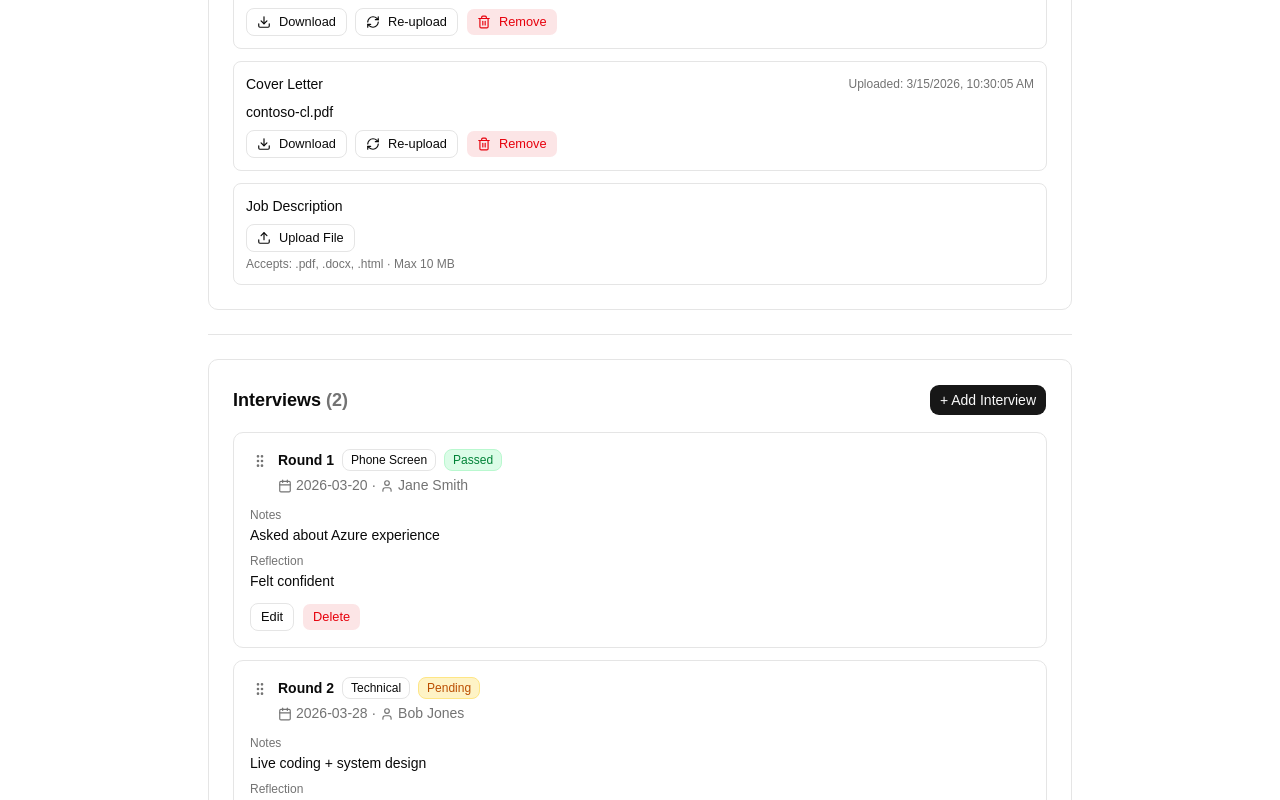
Scenario: ApplicationDetailPage › opens interview modal when clicking Add Interview
(page scrolled)
Click the button "+ Add Interview" at (988, 400), box [929, 384, 1047, 416]
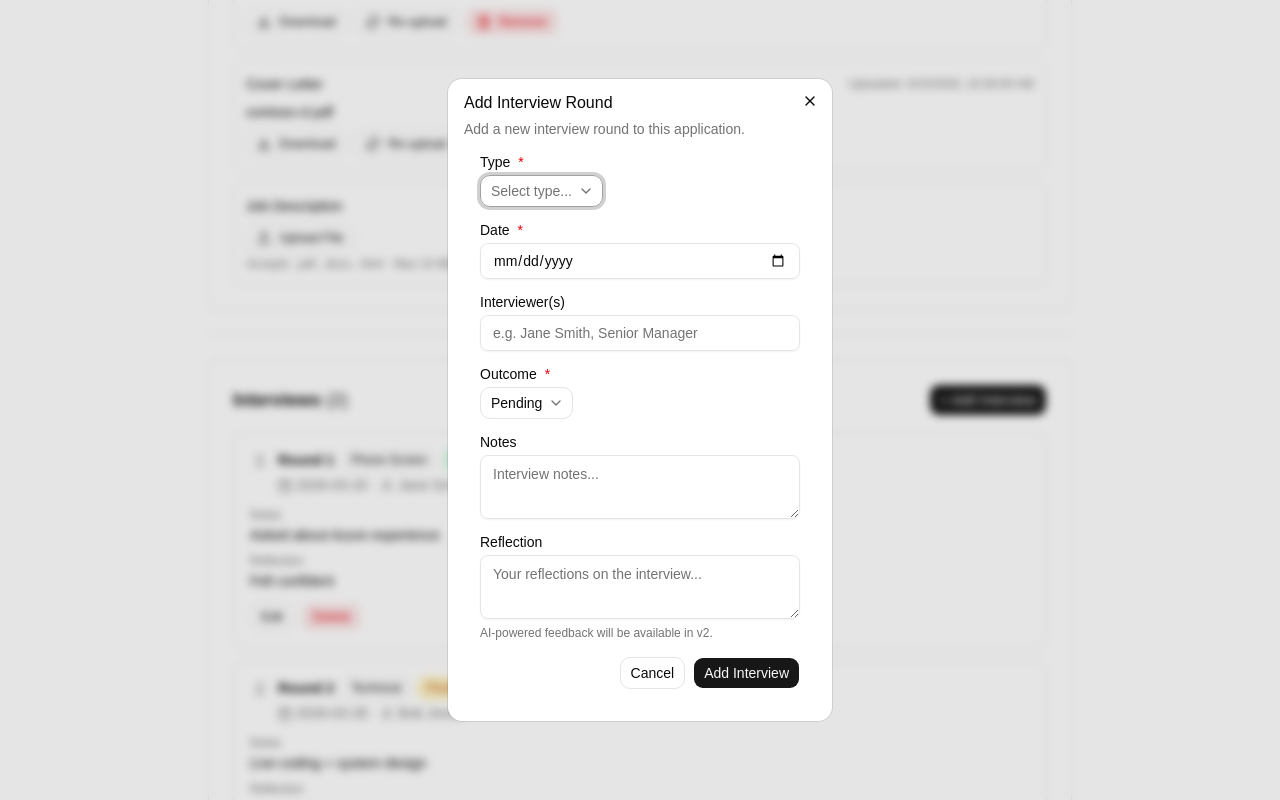
Expected: the heading "Add Interview Round" is shown, [464, 94, 612, 111]
